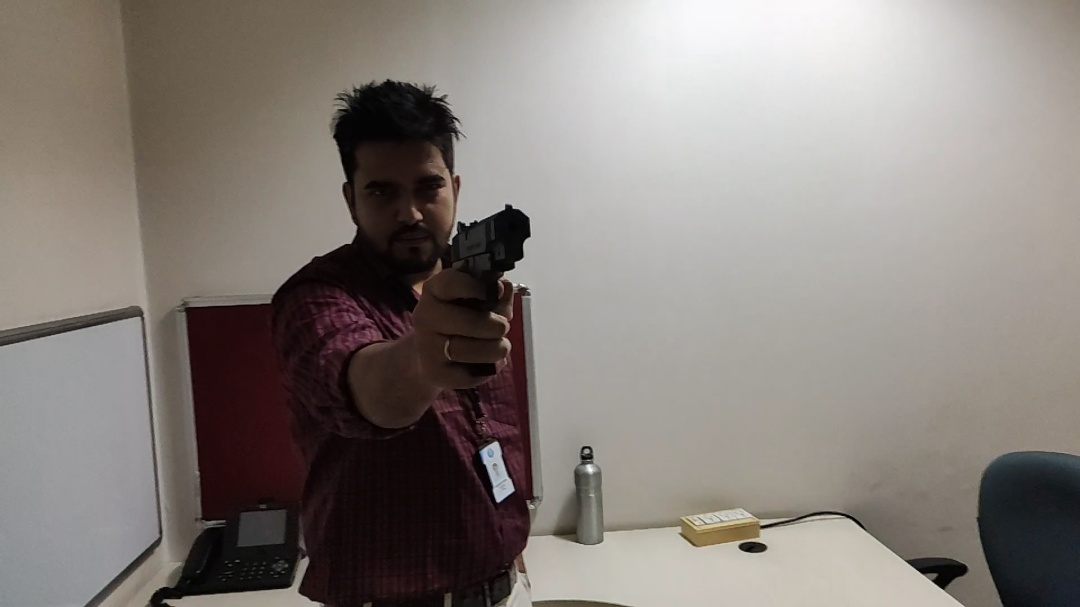gun: (433, 201, 538, 381)
